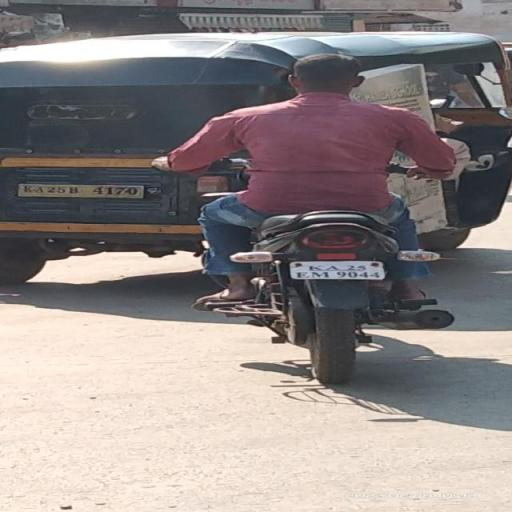bike: (154, 49, 472, 389)
numberplate: (292, 260, 385, 282)
withouthelmet: (294, 55, 360, 94)
